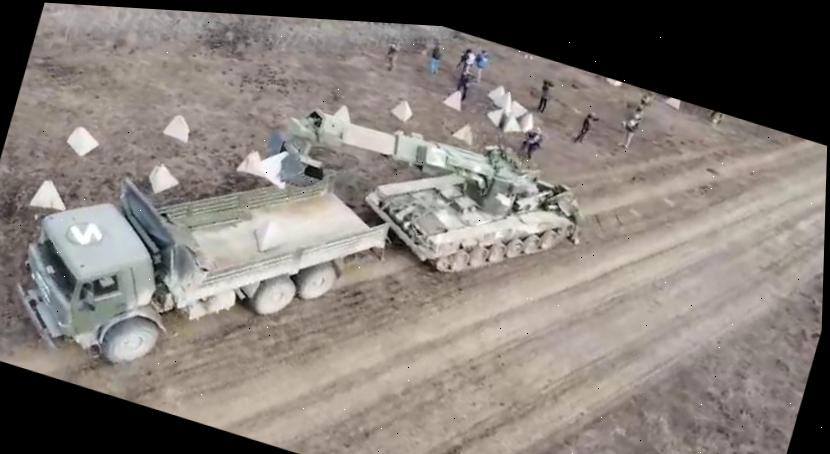person: (614, 109, 641, 152), (571, 111, 601, 148), (520, 124, 546, 164), (533, 77, 555, 114), (468, 47, 489, 85), (426, 38, 446, 77), (454, 67, 474, 102), (382, 38, 401, 72), (633, 87, 655, 115), (457, 46, 476, 77)
tank: (348, 121, 588, 309)
truck: (0, 83, 402, 437)
